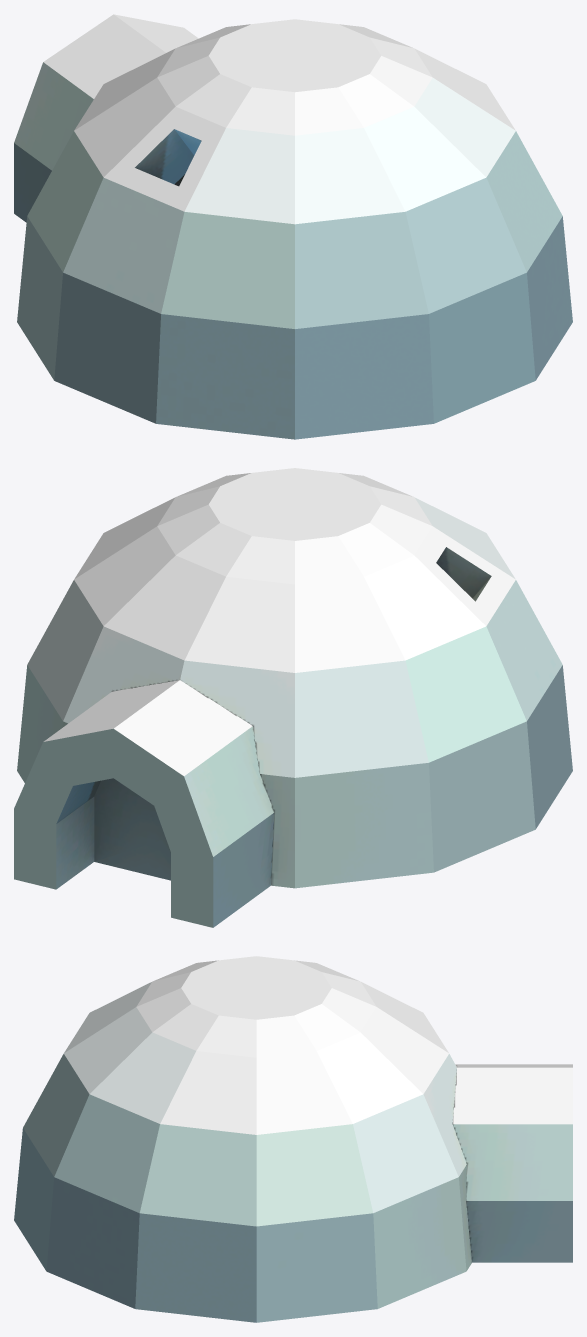
File: igloo.fbx
The picture shows the model from 3 angles, top to bottom: view 1: azimuth 30°, elevation 25°; view 2: azimuth 150°, elevation 25°; view 3: azimuth 270°, elevation 25°; orthographic projection. The views are drawn at different scales.
Visible parts, largest first — view 1: node_id3; view 2: node_id3; view 3: node_id3.
Part boxes in pixels (x1,y1,x2,y2): node_id3: [14, 14, 572, 439]; node_id3: [14, 468, 572, 927]; node_id3: [14, 956, 572, 1322].
Bounding box in the file's own units: 0.512 × 0.2707 × 0.5901.
1 material, 1 textured.
